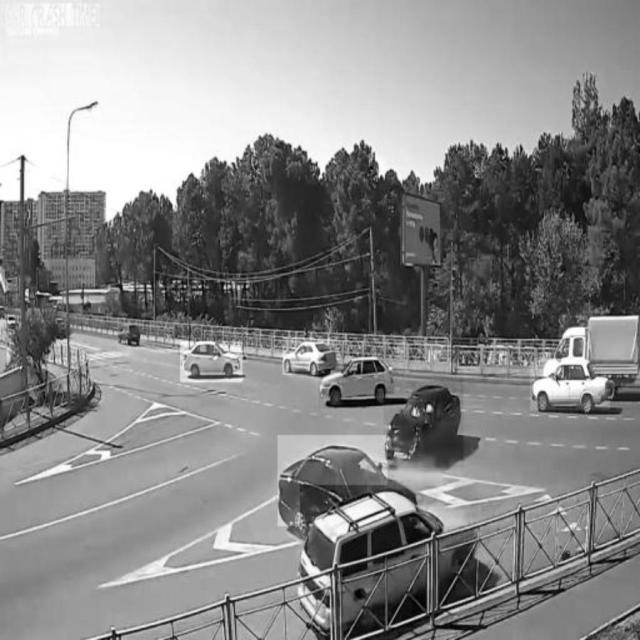vehicle: (301, 486, 478, 633), (278, 435, 388, 526), (384, 380, 464, 468), (559, 315, 640, 386), (319, 350, 399, 408), (531, 358, 611, 410), (180, 342, 242, 383), (282, 338, 338, 375), (117, 323, 144, 349)
